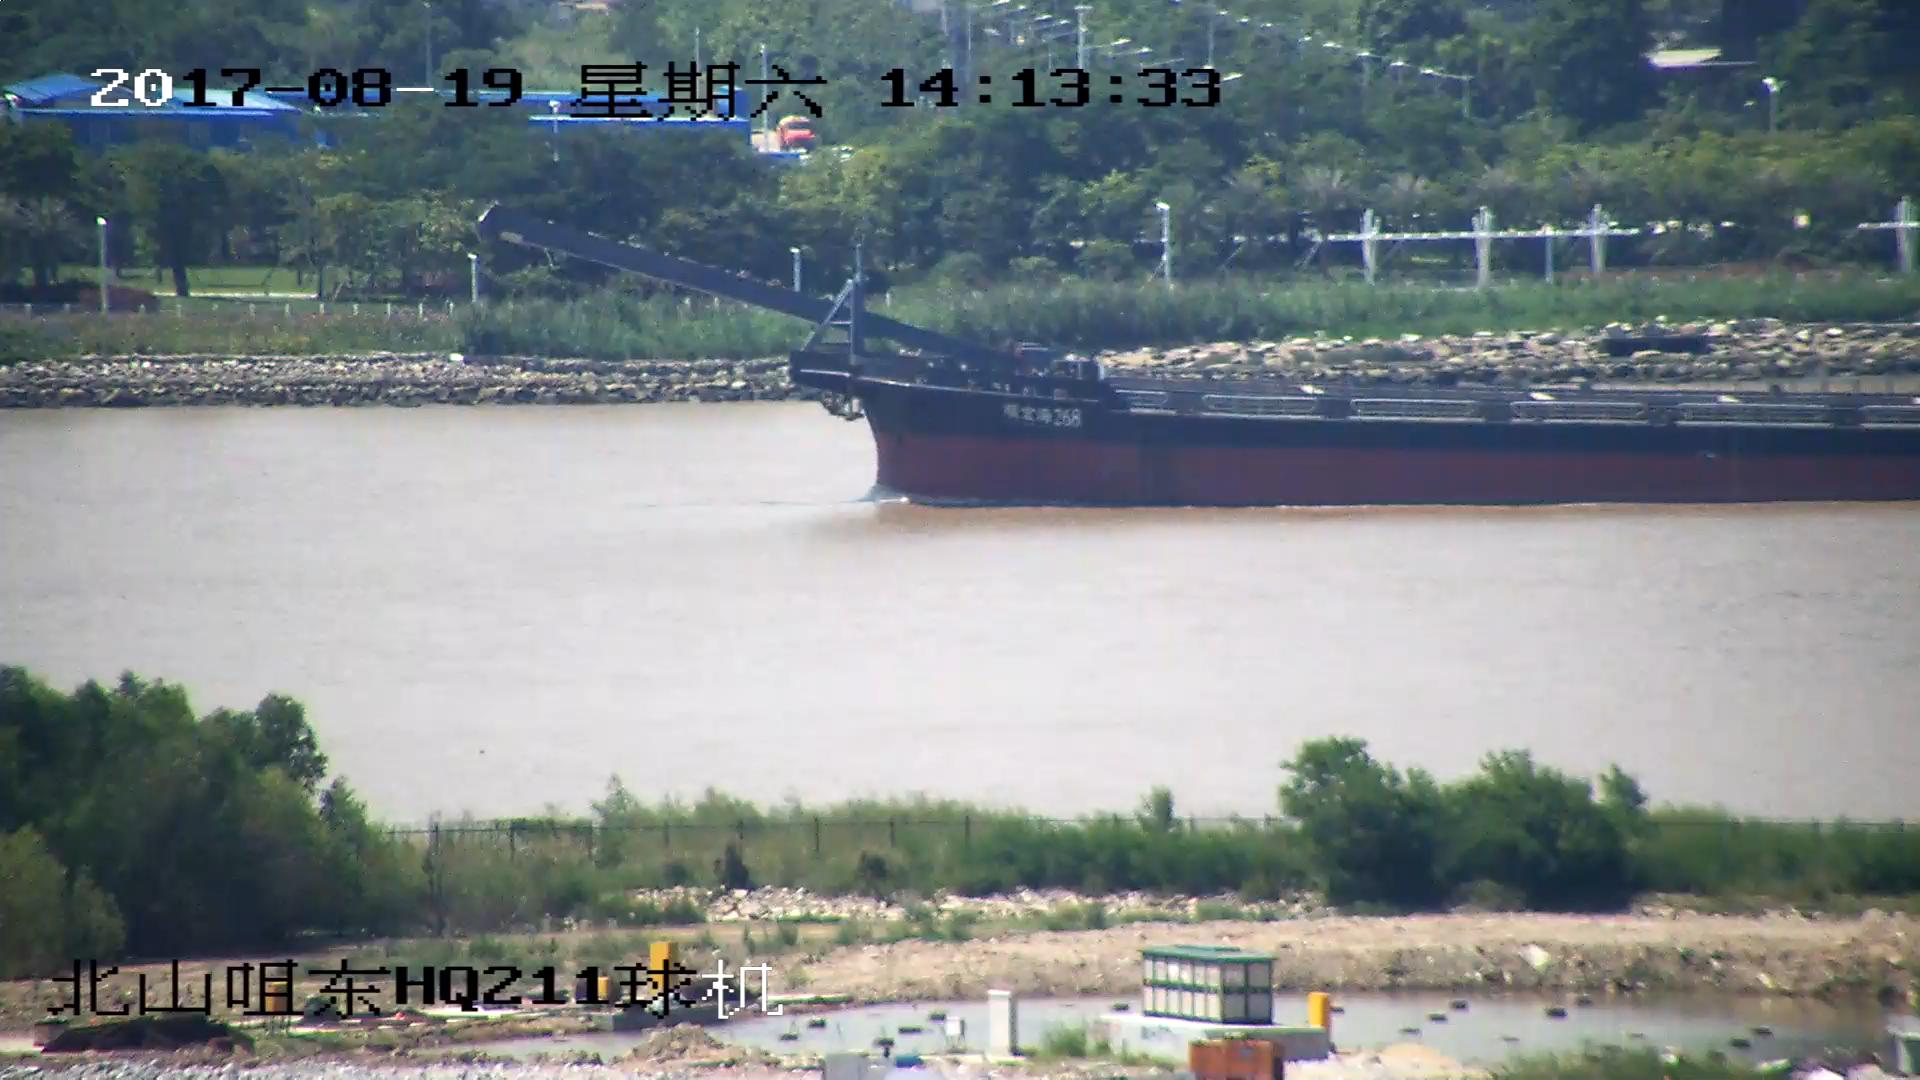bulk cargo carrier: (482, 212, 1920, 505)
